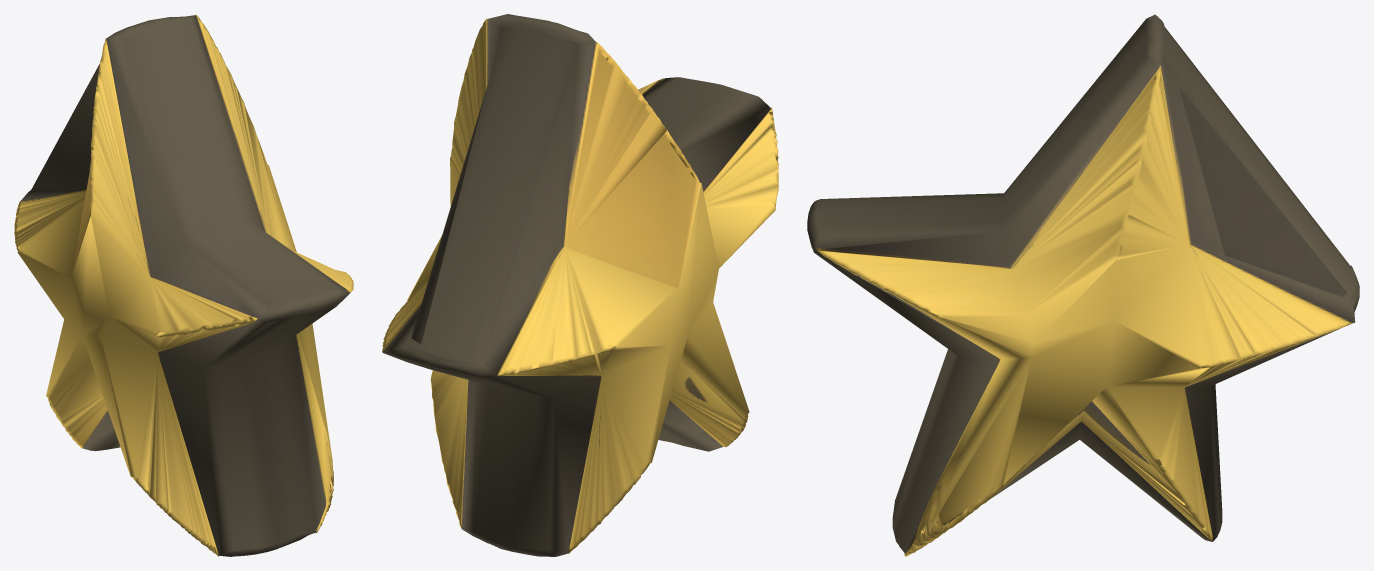
The model's file is repair-spark.glb.
The picture shows the model from 3 angles, left to right: view 1: azimuth 30°, elevation 25°; view 2: azimuth 150°, elevation 25°; view 3: azimuth 270°, elevation 25°; orthographic projection. The views are drawn at different scales.
Parts seen in each view (by area): view 1: tripo_node_4cdfb7f0-6b32-4164-98b9-87723aa951c2; view 2: tripo_node_4cdfb7f0-6b32-4164-98b9-87723aa951c2; view 3: tripo_node_4cdfb7f0-6b32-4164-98b9-87723aa951c2.
Boxes of the visible parts, box(x1,y1,x2,y2) form: tripo_node_4cdfb7f0-6b32-4164-98b9-87723aa951c2: box(14, 14, 353, 556); tripo_node_4cdfb7f0-6b32-4164-98b9-87723aa951c2: box(382, 14, 778, 556); tripo_node_4cdfb7f0-6b32-4164-98b9-87723aa951c2: box(807, 14, 1359, 556).
Bounding box in the file's own units: 0.1169 × 0.25 × 0.25.
1 material, 1 textured.
